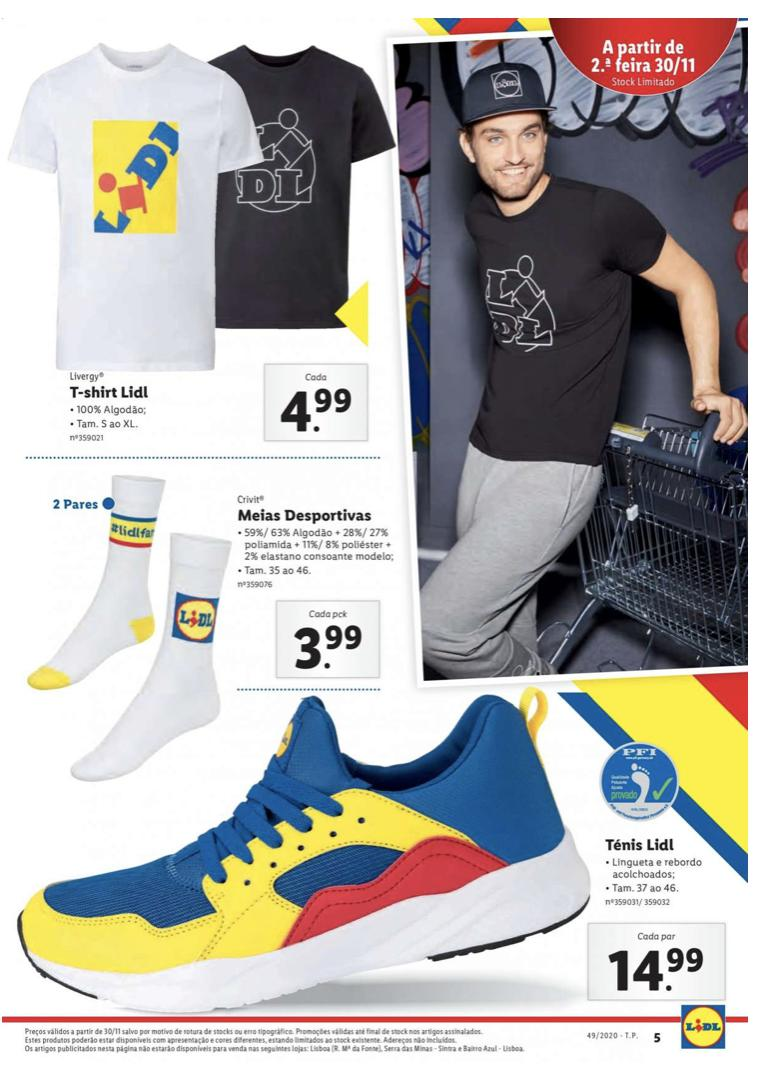name: (233, 507, 375, 525), (600, 832, 681, 857), (68, 380, 151, 403)
price: (605, 942, 709, 993), (283, 621, 373, 671), (277, 382, 358, 435)
product: (4, 700, 735, 1009), (10, 16, 380, 447), (6, 468, 398, 784)
